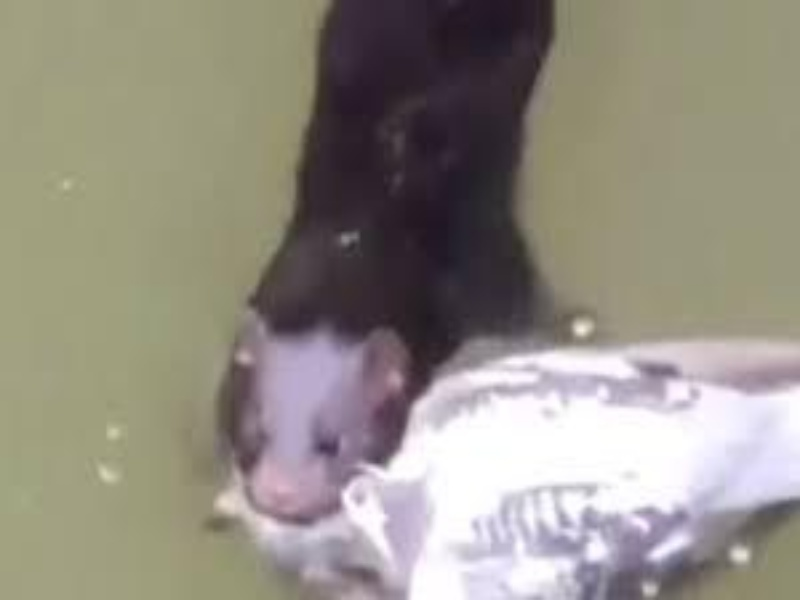minkish: (212, 1, 560, 516)
